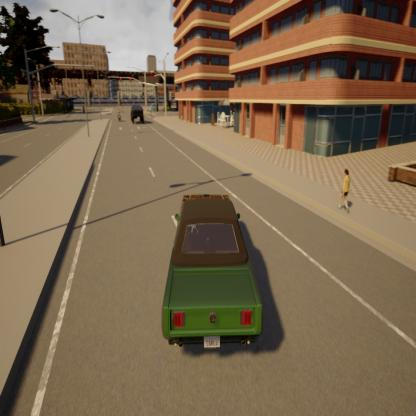Cars: (158, 187, 267, 365), (129, 100, 148, 127)
Pedestrian: (334, 162, 354, 219)
